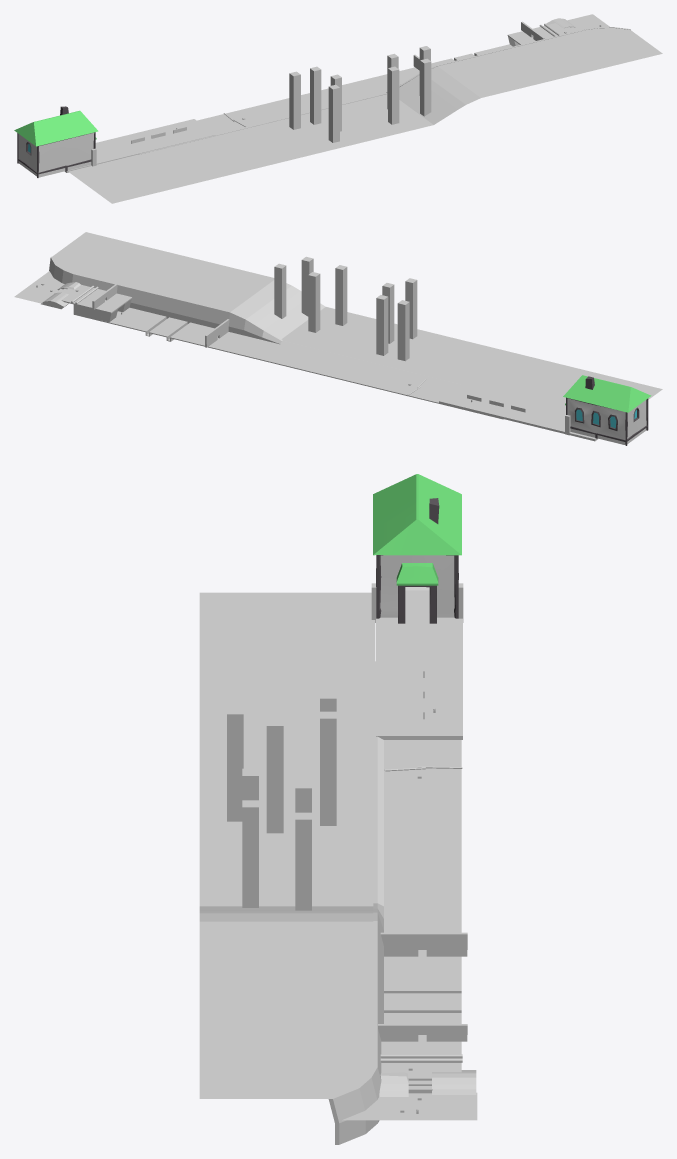
File: ALighthouseStory_LevelBlockout_WIP4.fbx
3 renders of one model, top to bottom at view 1: azimuth 30°, elevation 25°; view 2: azimuth 150°, elevation 25°; view 3: azimuth 270°, elevation 25°, orthographic. The views are drawn at different scales.
Visible parts, largest first — view 1: Plane.001, Cube.033, Cube.008, Cube.027, Cube.003, Cube.020, Cube.025, Cube.026, Cube.018, Cube.024, Plane; view 2: Plane.001, Cube.008, Cube.003, Cube.033, Cube.027, Plane, Cube.026, Cube.017, Cube.020, Cube.018, Cube.023, Cube.025 (+3 smaller); view 3: Plane.001, Cube.008, Cube.027, Cube.033, Cube.003, Plane, Cube.015, Cube.019, Cube.020, Cube.025, Cube.024, Cube.023 (+2 smaller).
Part boxes in pixels (x1=…): Plane.001: x1=68, y1=28, x2=662, y2=203; Cube.033: x1=14, y1=106, x2=98, y2=177; Cube.008: x1=197, y1=23, x2=574, y2=134; Cube.027: x1=65, y1=119, x2=215, y2=172; Cube.003: x1=139, y1=27, x2=630, y2=154; Cube.020: x1=310, y1=66, x2=321, y2=124; Cube.025: x1=328, y1=84, x2=339, y2=142; Cube.026: x1=289, y1=71, x2=300, y2=129; Cube.018: x1=388, y1=66, x2=399, y2=124; Cube.024: x1=420, y1=58, x2=431, y2=116; Plane: x1=567, y1=14, x2=609, y2=29; Plane.001: x1=52, y1=232, x2=662, y2=409; Cube.008: x1=61, y1=284, x2=503, y2=419; Cube.003: x1=49, y1=256, x2=542, y2=404; Cube.033: x1=563, y1=375, x2=651, y2=445; Cube.027: x1=439, y1=384, x2=598, y2=441; Plane: x1=14, y1=271, x2=64, y2=303; Cube.026: x1=397, y1=300, x2=409, y2=361; Cube.017: x1=308, y1=272, x2=320, y2=332; Cube.020: x1=376, y1=295, x2=388, y2=355; Cube.018: x1=335, y1=265, x2=347, y2=325; Cube.023: x1=274, y1=263, x2=286, y2=318; Cube.025: x1=405, y1=278, x2=417, y2=339; Plane.001: x1=199, y1=592, x2=375, y2=1098; Cube.008: x1=381, y1=740, x2=461, y2=1080; Cube.027: x1=376, y1=590, x2=462, y2=739; Cube.033: x1=373, y1=474, x2=461, y2=623; Cube.003: x1=328, y1=661, x2=383, y2=1144; Plane: x1=342, y1=1092, x2=477, y2=1120; Cube.015: x1=380, y1=932, x2=467, y2=956; Cube.019: x1=266, y1=719, x2=283, y2=833; Cube.020: x1=320, y1=711, x2=336, y2=825; Cube.025: x1=227, y1=707, x2=243, y2=821; Cube.024: x1=242, y1=800, x2=258, y2=907; Cube.023: x1=295, y1=812, x2=311, y2=910.
Size of the model in its own units: 7761 by 773 by 1599.
